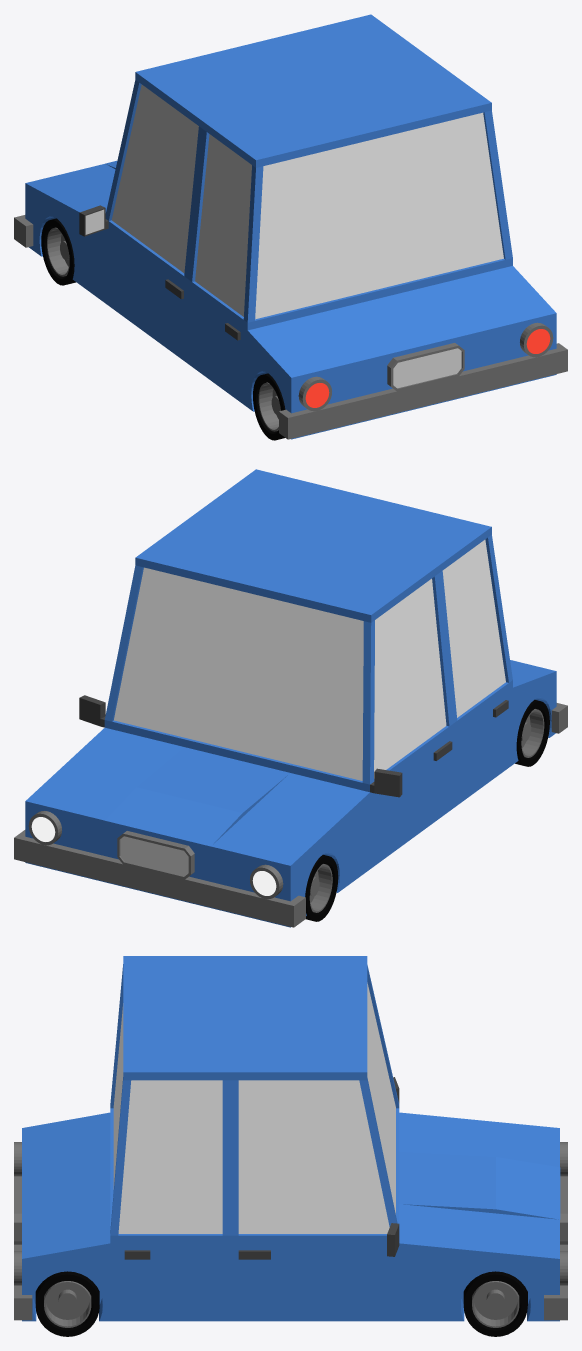
The model's file is car.007_lev3.glb.
The picture shows the model from 3 angles, top to bottom: view 1: azimuth 30°, elevation 25°; view 2: azimuth 150°, elevation 25°; view 3: azimuth 270°, elevation 25°; orthographic projection.
Parts seen in each view (by area): view 1: car.007_lev3; view 2: car.007_lev3; view 3: car.007_lev3.
Boxes of the visible parts, x1,y1,x2,y2 form: car.007_lev3: [14, 14, 567, 440]; car.007_lev3: [14, 469, 567, 927]; car.007_lev3: [14, 956, 567, 1336].
Bounding box in the file's own units: 1.2 × 0.9134 × 1.78.
